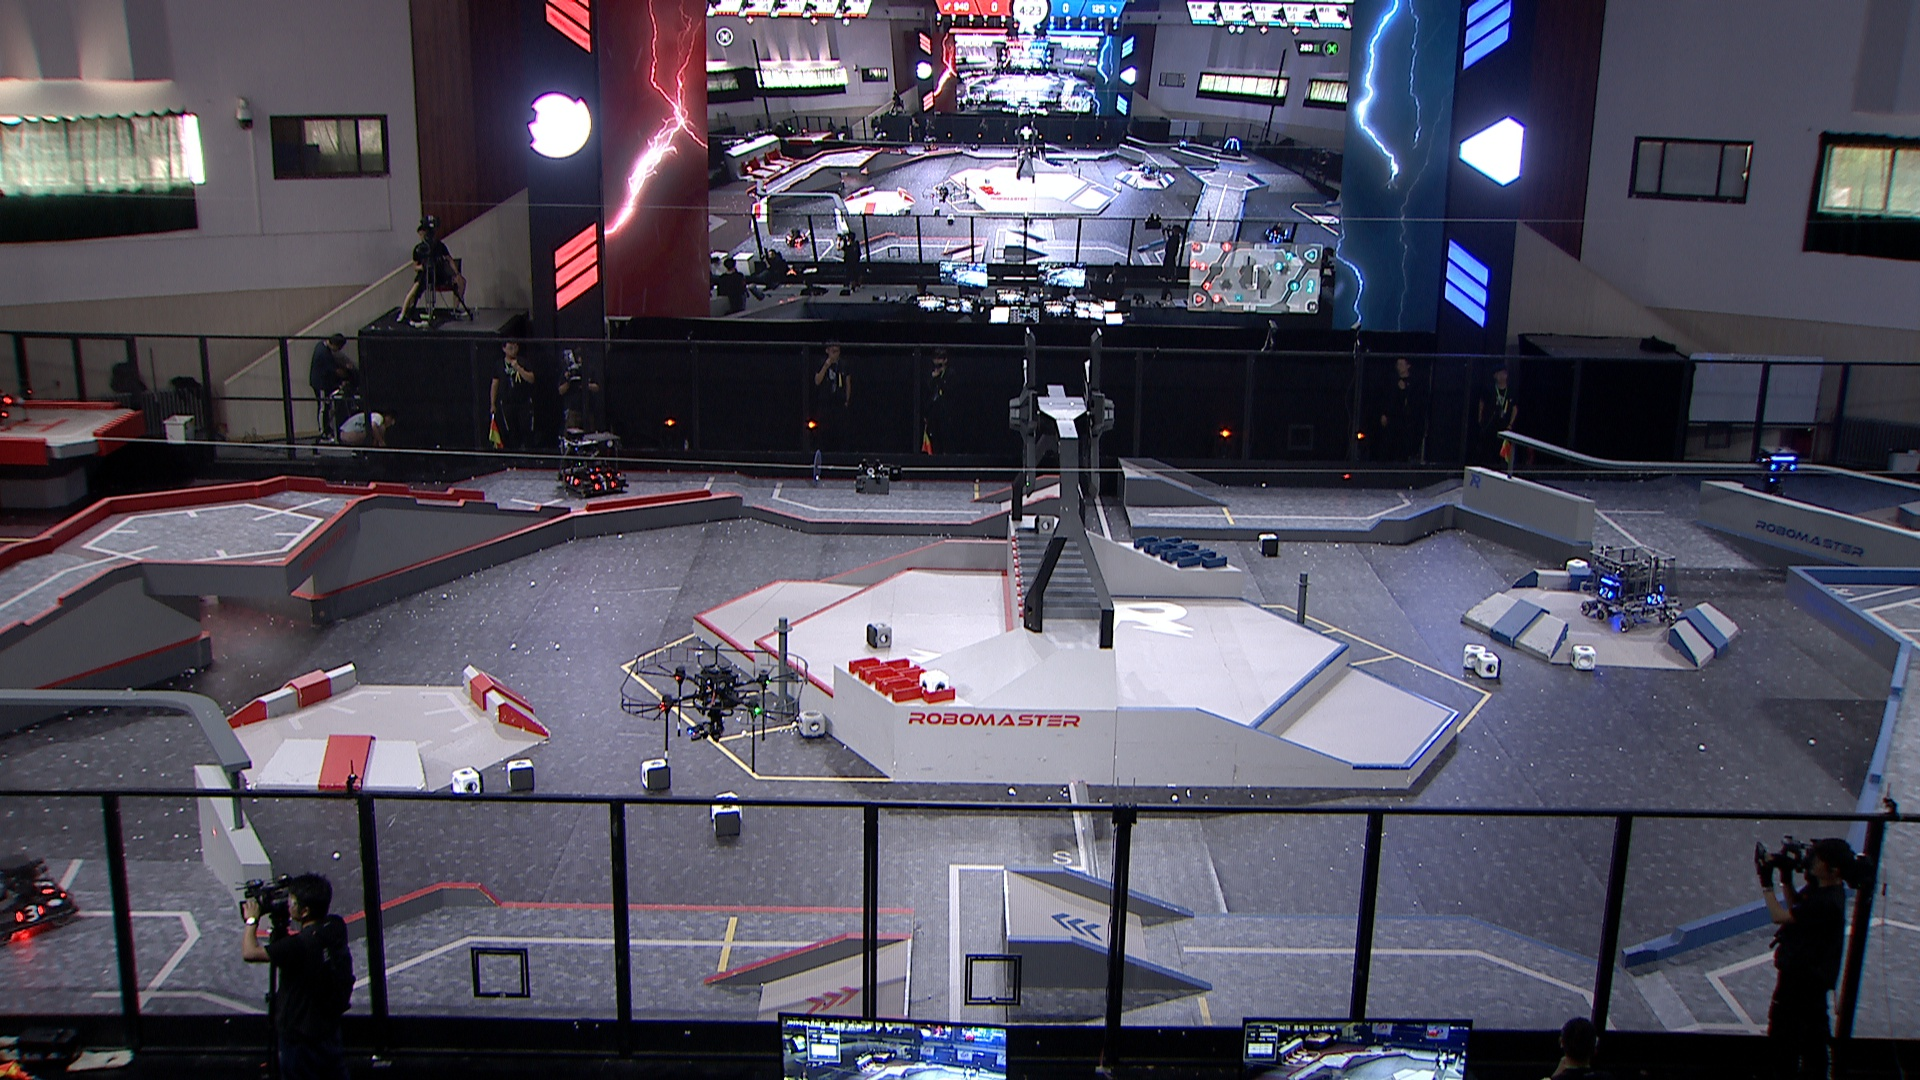armor: (15, 905, 46, 924), (32, 877, 58, 898), (1770, 462, 1797, 475), (593, 479, 618, 491), (585, 472, 613, 481), (1600, 585, 1614, 603), (1647, 591, 1662, 607), (564, 475, 580, 487)
car: (1576, 541, 1683, 629), (556, 427, 632, 498)
ignore: (1263, 222, 1294, 244), (785, 225, 808, 251), (1221, 135, 1244, 158), (1143, 162, 1162, 179), (922, 135, 940, 152), (754, 185, 767, 200), (1178, 138, 1189, 152)
watcher: (1756, 446, 1799, 495)
